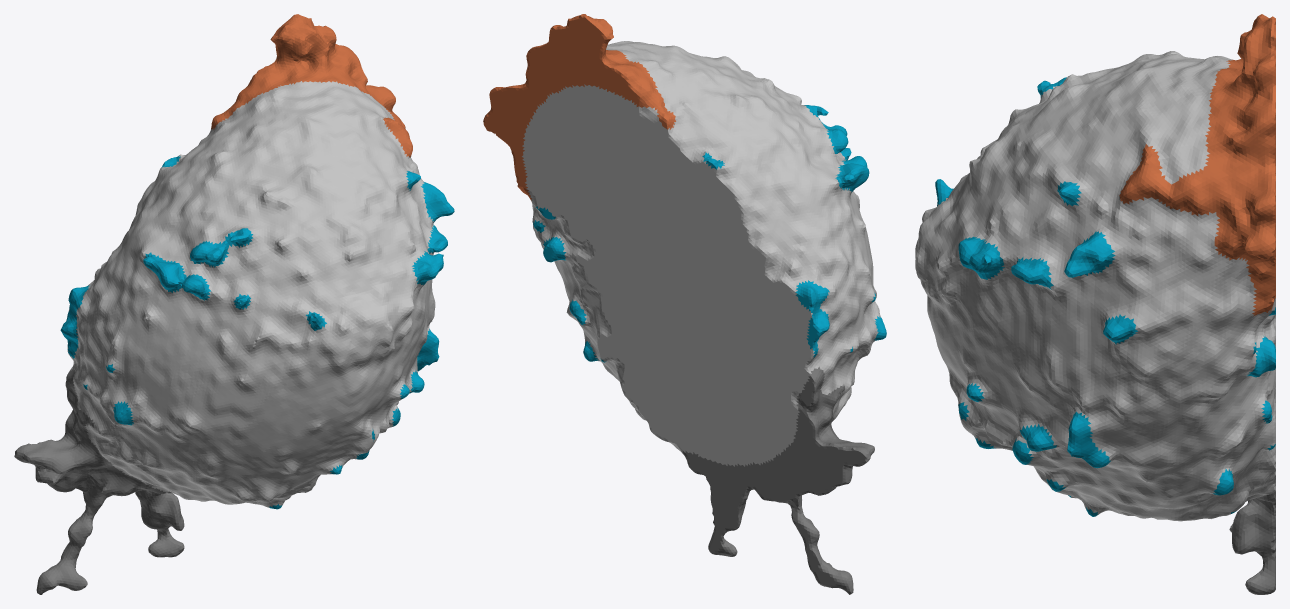
3 views of the same model, side by side, from view 1: azimuth 30°, elevation 25°; view 2: azimuth 150°, elevation 25°; view 3: azimuth 270°, elevation 25° (orthographic). The views are drawn at different scales.
Size of the model in its own units: 116 by 149 by 72.52.
